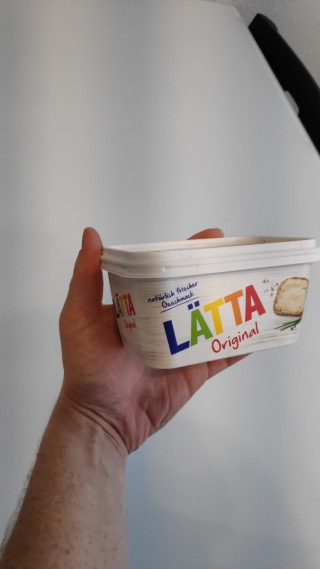laetta: (100, 232, 320, 368)
